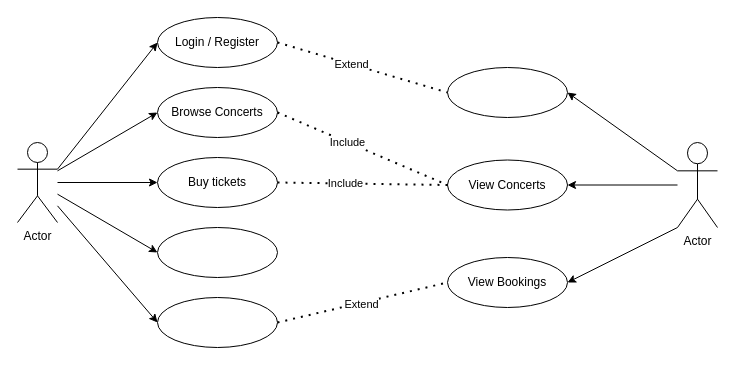
Some shapes in this 735 by 365 pixel diagram are drawn without their labels. The centre of each missing label's shape, as x and y in pixels:
Manage Conserts: the point at 507,92
View E-ticket: the point at 217,252
View History: the point at 217,322
